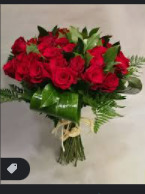RedRose: (49, 64, 78, 92), (26, 59, 49, 82), (84, 64, 105, 88)
